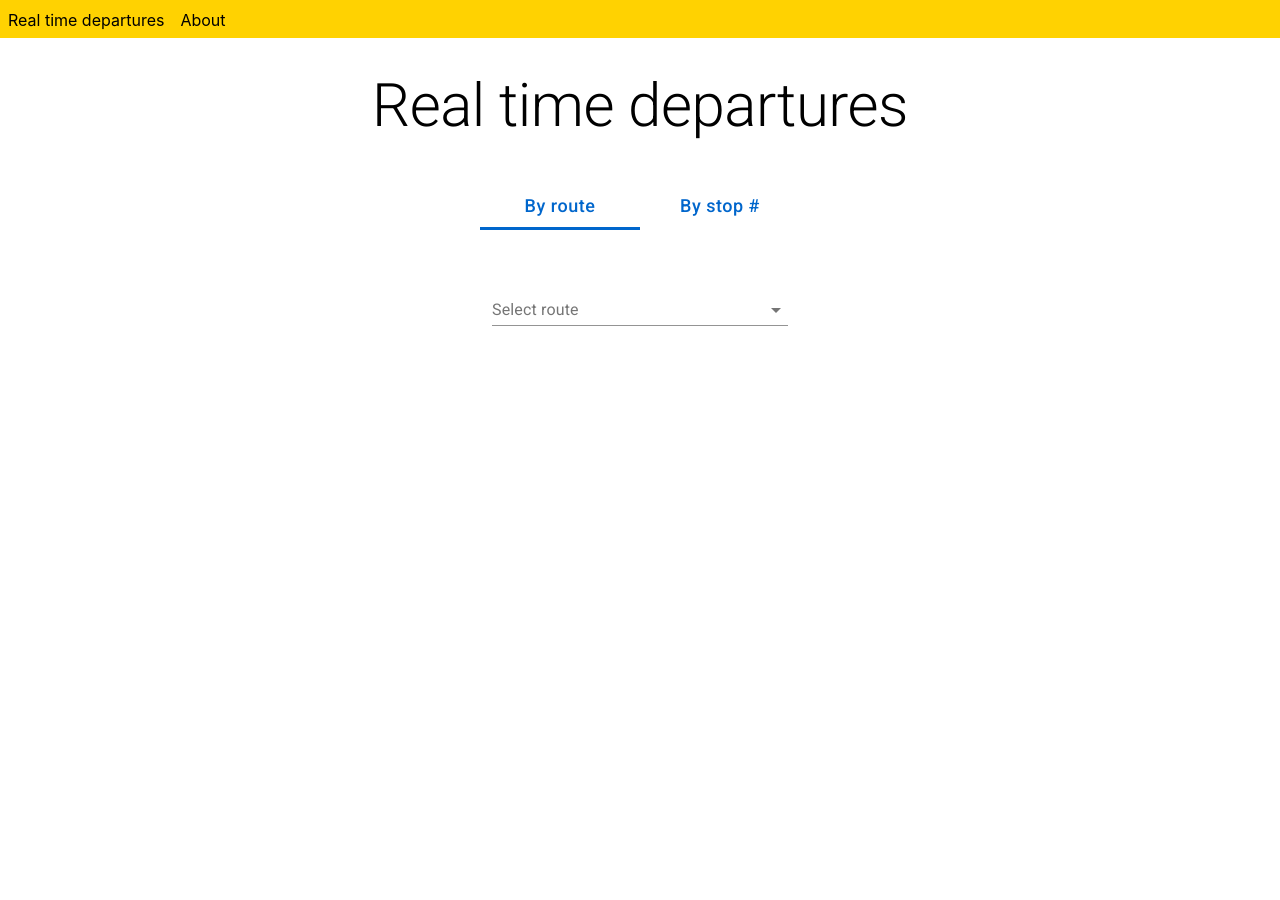
Test: renders the About page when the About navigation button is clicked
Click the link "About" at (203, 20), box [180,10,226,30]
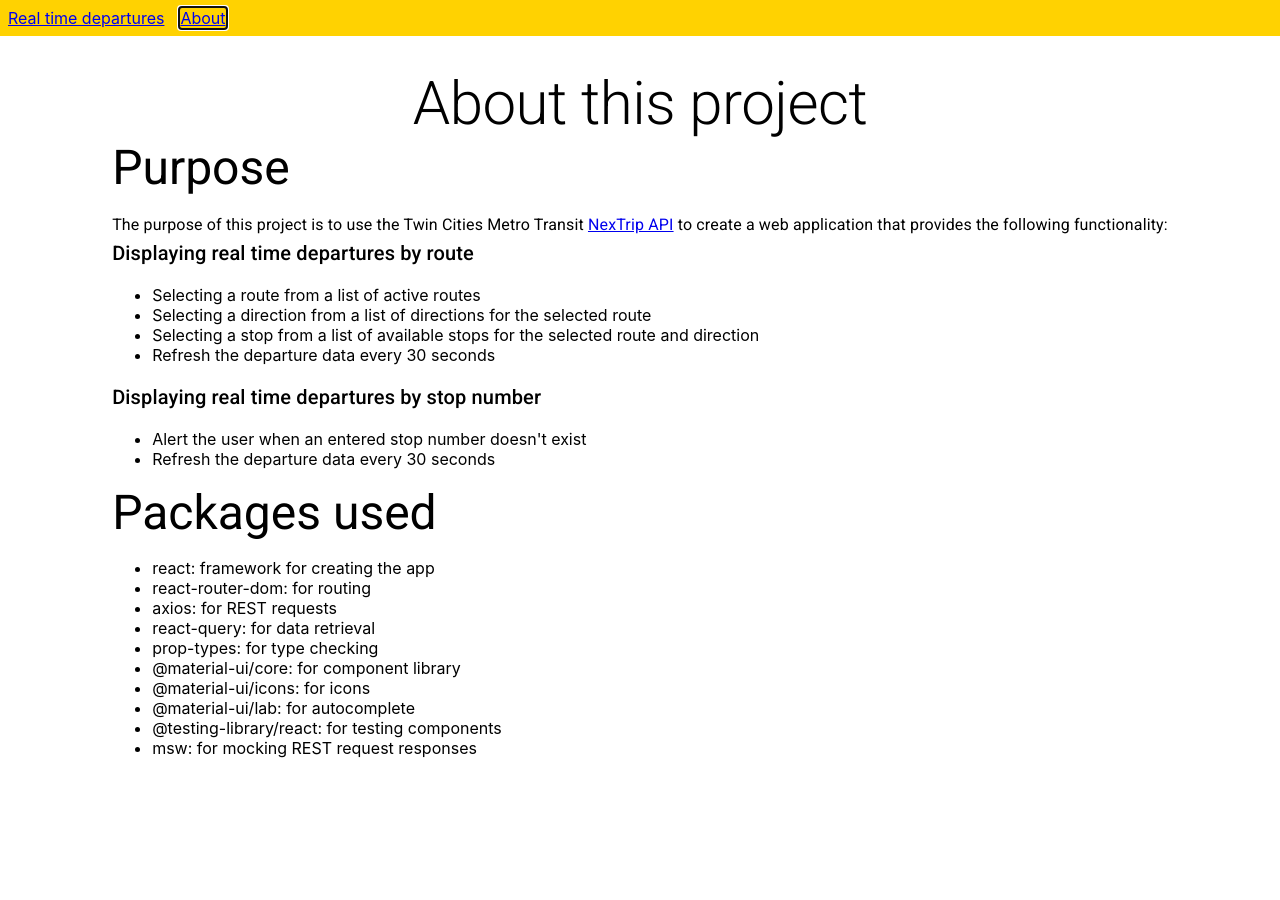
Expected: the heading "About this project" is shown, [413,68,867,139]
